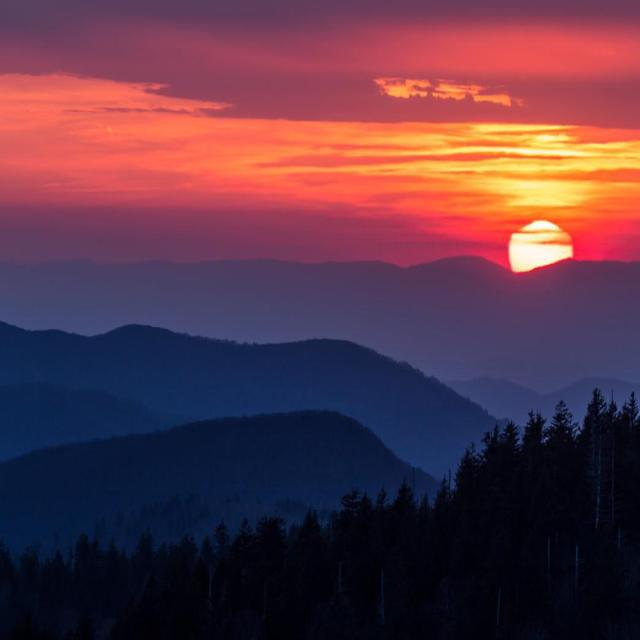other: (420, 112, 610, 288)
